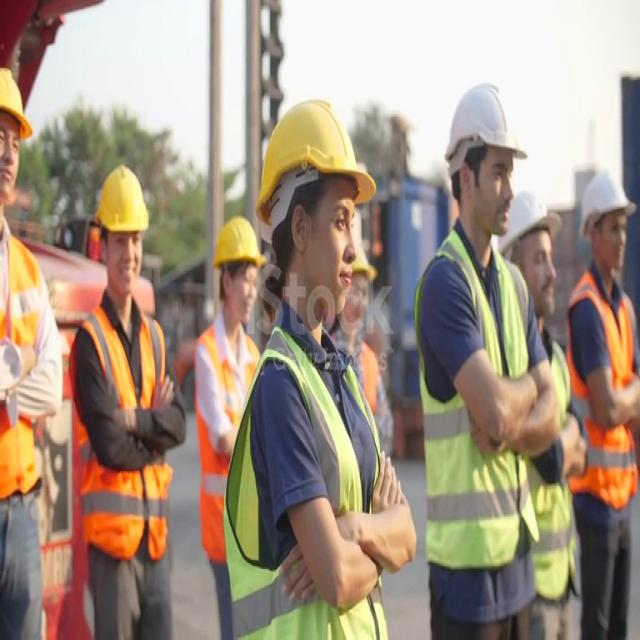capacete: (249, 94, 386, 216), (442, 78, 540, 171), (94, 144, 158, 251), (568, 168, 640, 254), (204, 213, 269, 302), (504, 188, 568, 260), (0, 34, 34, 147)
